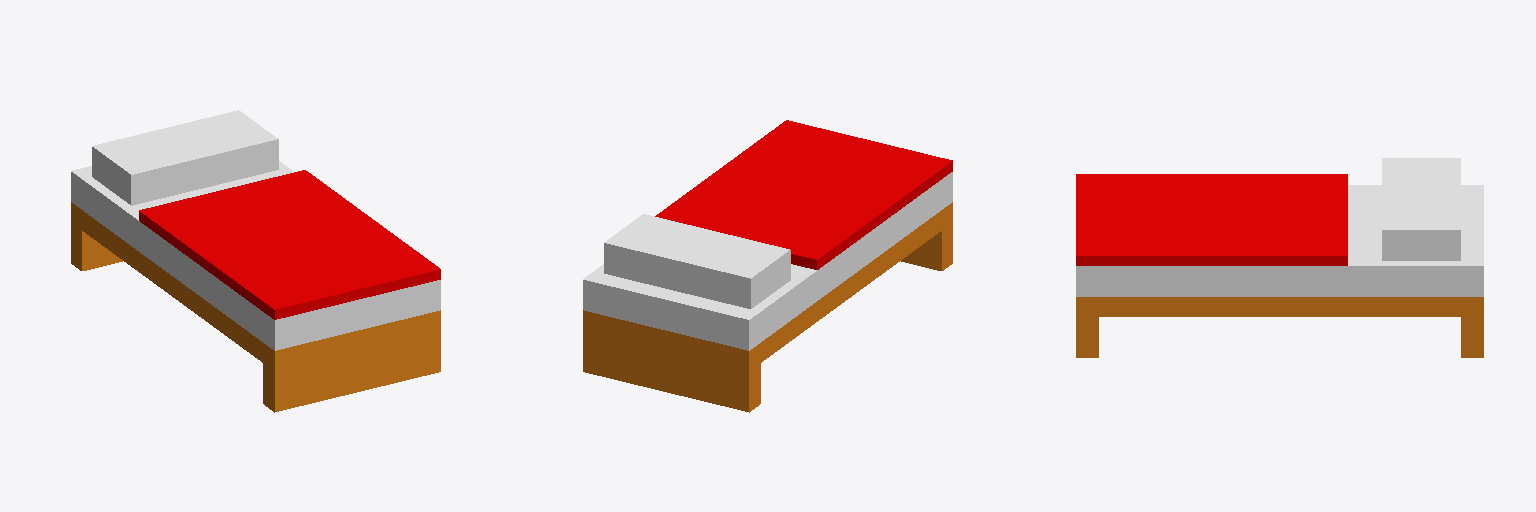
3 renders of one model, left to right at view 1: azimuth 30°, elevation 25°; view 2: azimuth 150°, elevation 25°; view 3: azimuth 270°, elevation 25°, orthographic.
Size of the model in its own units: 17 by 12 by 36.
Materials: 1 (1 with a texture image).